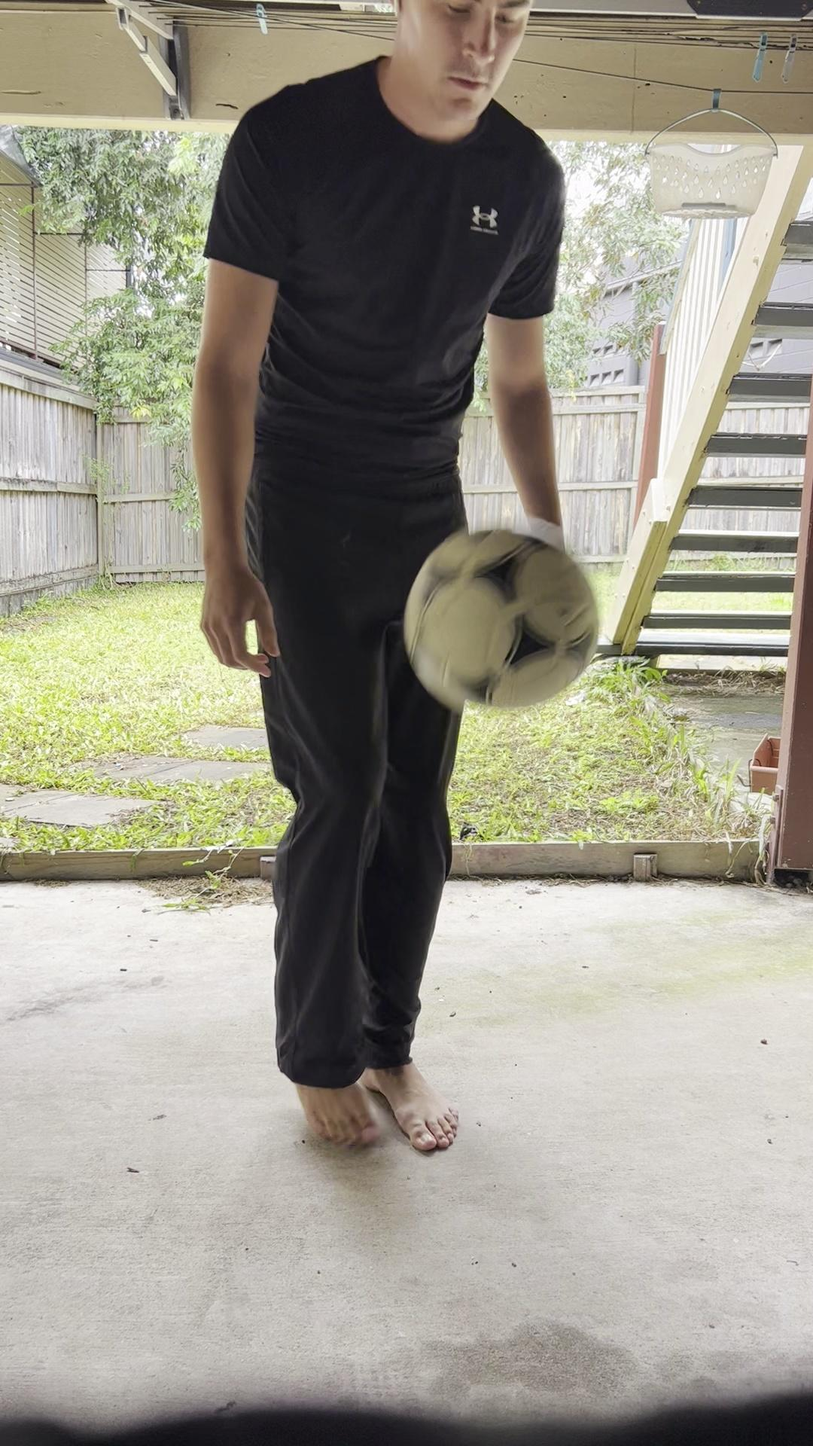ball: (402, 517, 599, 712)
foot: (364, 1062, 458, 1154), (298, 1077, 378, 1149)
person: (192, 0, 570, 1154)
